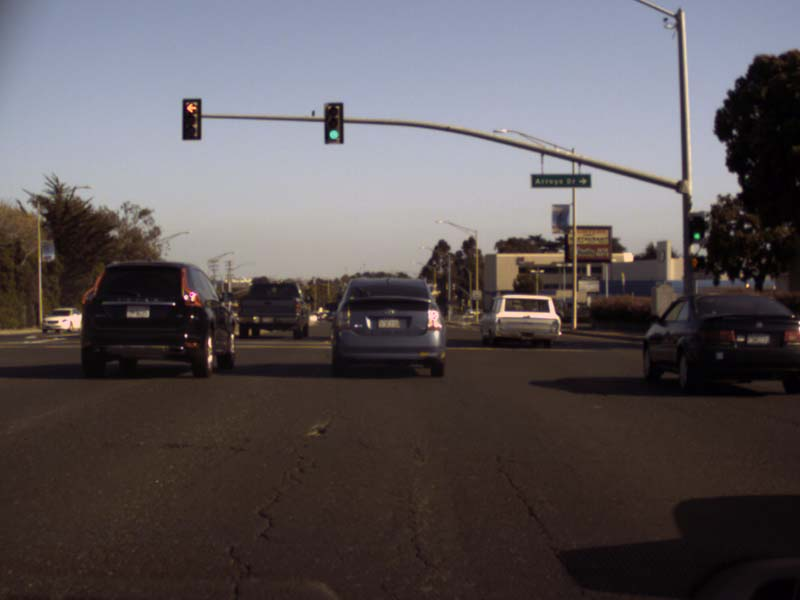Green: (324, 102, 343, 144), (689, 218, 701, 242)
Red: (181, 97, 201, 140)
